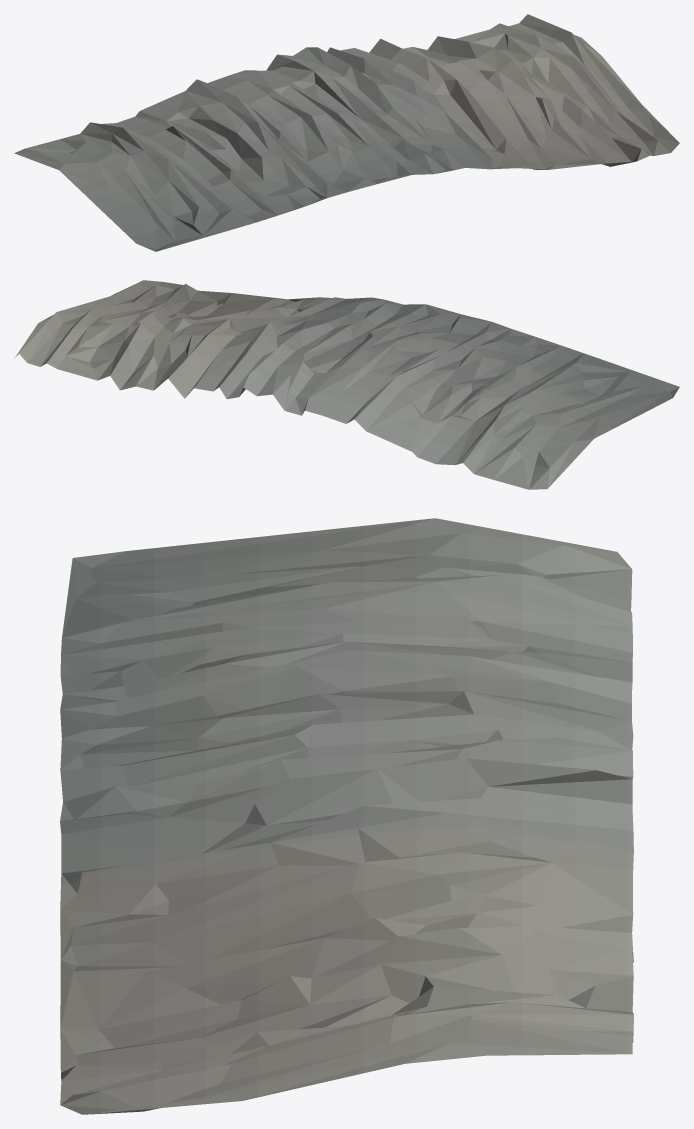
Rendered from Wall 1.FBX.
3 views of the same model, one above another, from view 1: azimuth 30°, elevation 25°; view 2: azimuth 150°, elevation 25°; view 3: azimuth 270°, elevation 25° (orthographic). The views are drawn at different scales.
Visible parts, largest first — view 1: Group25094; view 2: Group25094; view 3: Group25094.
Boxes of the visible parts, bbox=[...] form: Group25094: bbox=[14, 14, 679, 251]; Group25094: bbox=[14, 280, 679, 489]; Group25094: bbox=[60, 518, 633, 1114].
Bounding box in the file's own units: 9943 × 4611 × 1291.
